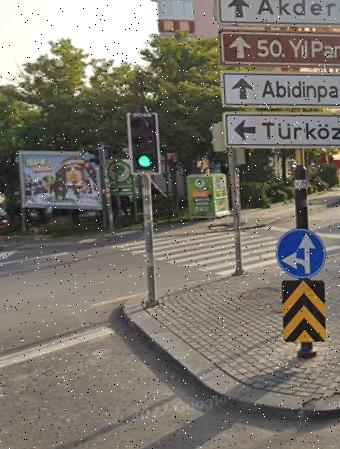greenlight: (129, 111, 161, 175)
